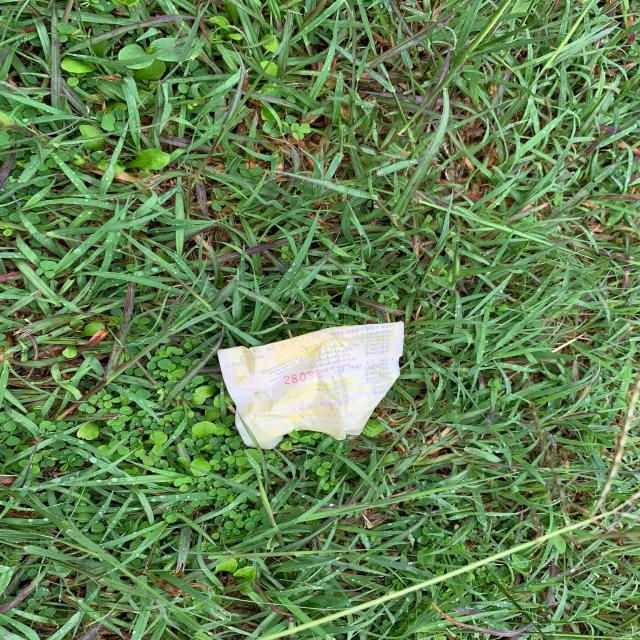litter: (218, 321, 404, 447)
